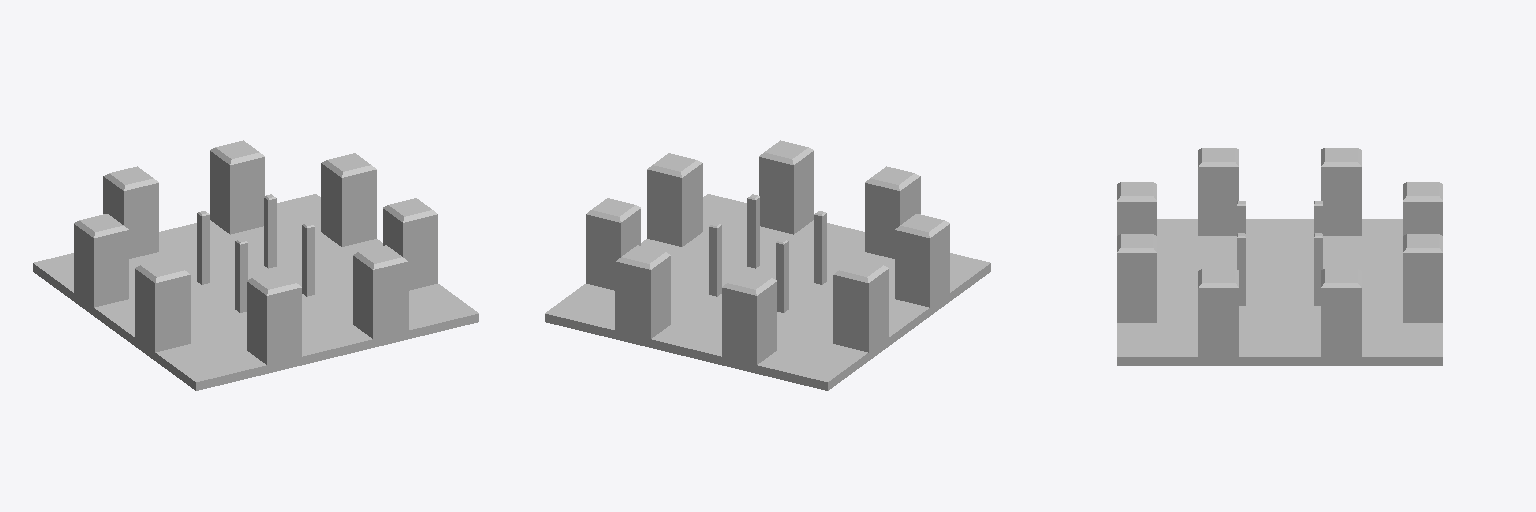
The model's file is sewer_pillars_frozen.obj.
3 views of the same model, side by side, from view 1: azimuth 30°, elevation 25°; view 2: azimuth 150°, elevation 25°; view 3: azimuth 270°, elevation 25° (orthographic).
Parts seen in each view (by area): view 1: pCube4, pCube16; view 2: pCube4, pCube16; view 3: pCube4, pCube16.
Part boxes in pixels (left/top/right/bottom): pCube4: left=33, top=140, right=478, bottom=390; pCube16: left=197, top=194, right=314, bottom=312; pCube4: left=545, top=140, right=990, bottom=390; pCube16: left=709, top=194, right=826, bottom=312; pCube4: left=1117, top=148, right=1442, bottom=365; pCube16: left=1237, top=201, right=1322, bottom=305.
Bounding box in the file's own units: 34 × 9.37 × 34.